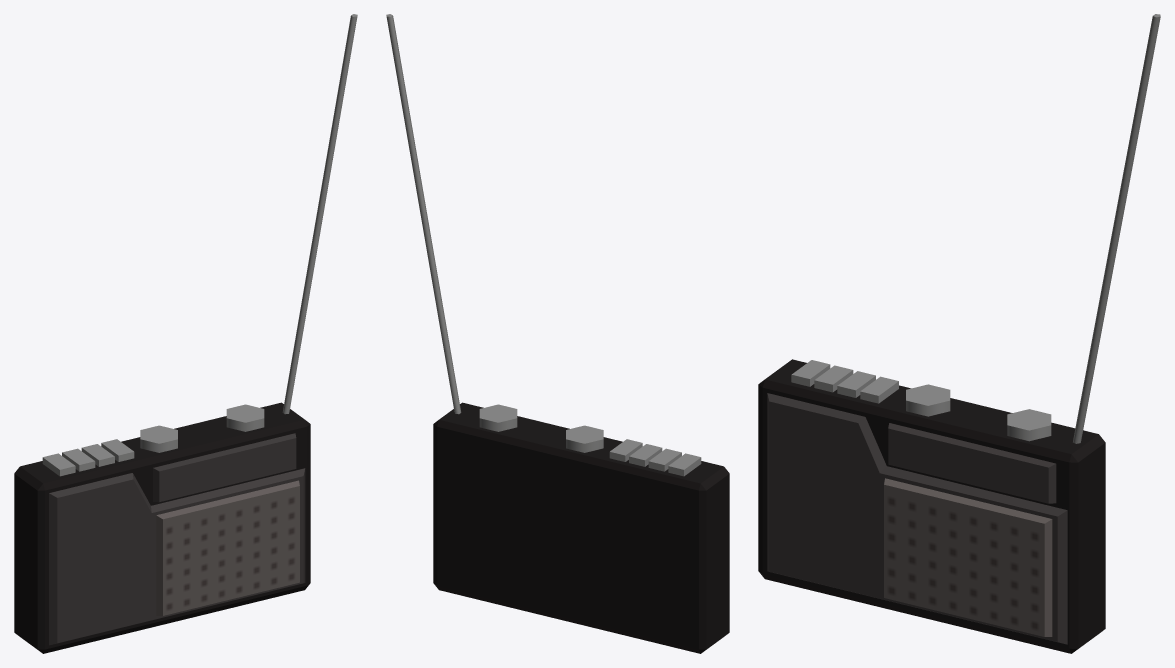
The model's file is 35_prop_radio.FBX.
3 renders of one model, left to right at view 1: azimuth 30°, elevation 25°; view 2: azimuth 150°, elevation 25°; view 3: azimuth 330°, elevation 25°, orthographic. The views are drawn at different scales.
Parts seen in each view (by area): view 1: prop_radio; view 2: prop_radio; view 3: prop_radio.
Part boxes in pixels (bbox=[...]): prop_radio: bbox=[14, 14, 357, 653]; prop_radio: bbox=[386, 14, 729, 653]; prop_radio: bbox=[758, 14, 1160, 653].
Bounding box in the file's own units: 19.45 × 30.87 × 3.46.
